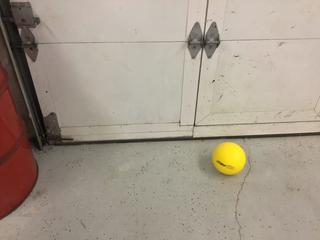power_cell: (210, 140, 249, 179)
